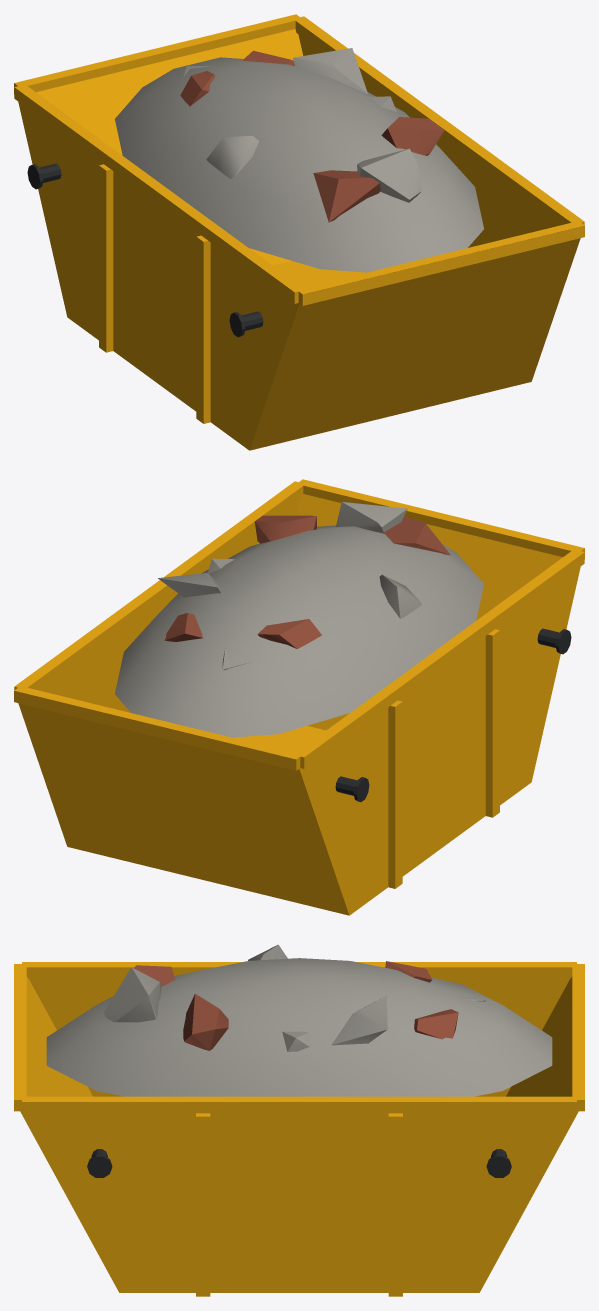
File: plant.skip.builders_full.glb
3 renders of one model, top to bottom at view 1: azimuth 30°, elevation 25°; view 2: azimuth 150°, elevation 25°; view 3: azimuth 270°, elevation 25°, orthographic.
Parts seen in each view (by area): view 1: main__plant_yellow, main__concrete, main__brick, main__steel_dark; view 2: main__plant_yellow, main__concrete, main__brick, main__steel_dark; view 3: main__plant_yellow, main__concrete, main__brick, main__steel_dark.
Part boxes in pixels (left/top/right/bottom): main__plant_yellow: left=14, top=14, right=584, bottom=450; main__concrete: left=115, top=48, right=483, bottom=272; main__brick: left=180, top=50, right=444, bottom=222; main__steel_dark: left=27, top=163, right=263, bottom=337; main__plant_yellow: left=14, top=479, right=584, bottom=915; main__concrete: left=115, top=502, right=483, bottom=737; main__brick: left=164, top=515, right=450, bottom=648; main__steel_dark: left=335, top=628, right=571, bottom=802; main__plant_yellow: left=14, top=962, right=584, bottom=1296; main__concrete: left=46, top=944, right=552, bottom=1096; main__brick: left=134, top=961, right=458, bottom=1050; main__steel_dark: left=87, top=1149, right=511, bottom=1177.
Bounding box in the file's own units: 2.1 × 1.58 × 3.19.
